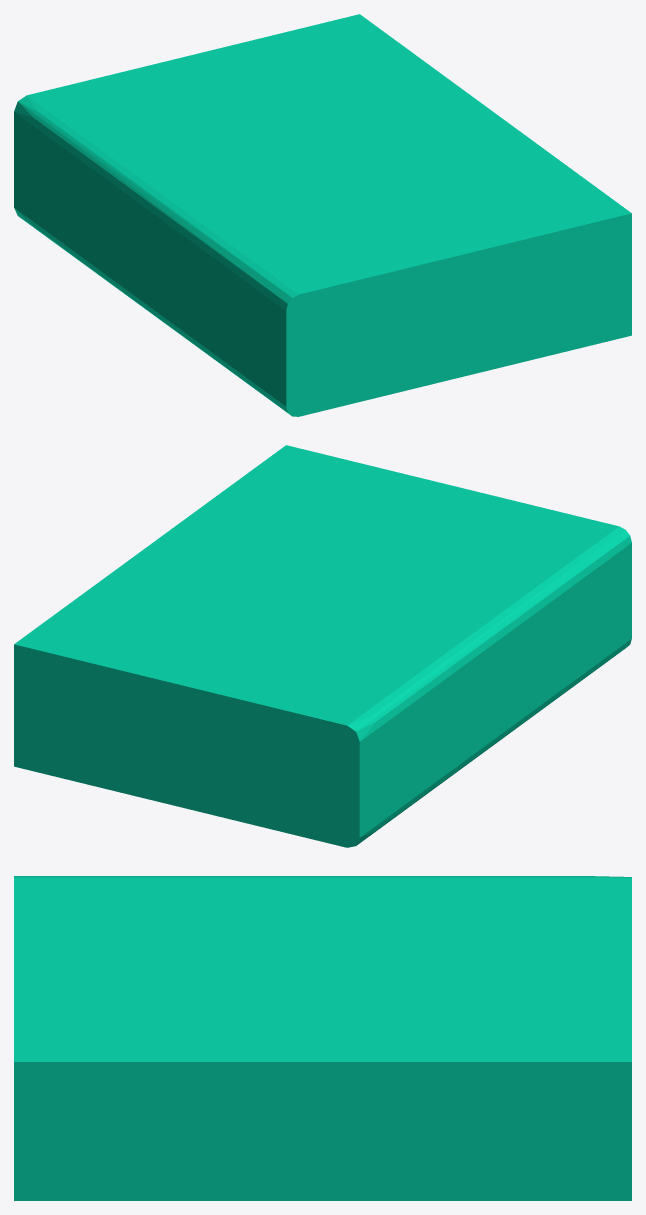
3 views of the same model, one above another, from view 1: azimuth 30°, elevation 25°; view 2: azimuth 150°, elevation 25°; view 3: azimuth 270°, elevation 25° (orthographic). The views are drawn at different scales.
Bounding box in the file's own units: 5.48 × 1.85 × 7.47.
